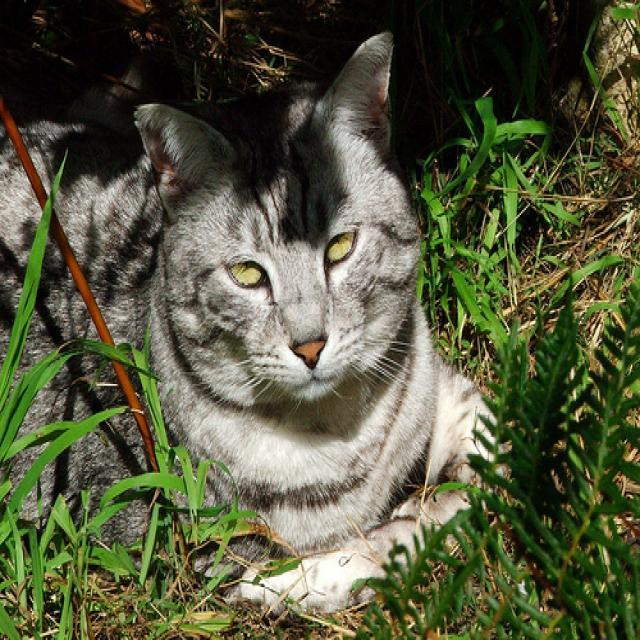Egyptian_Mau: (132, 28, 417, 405)
